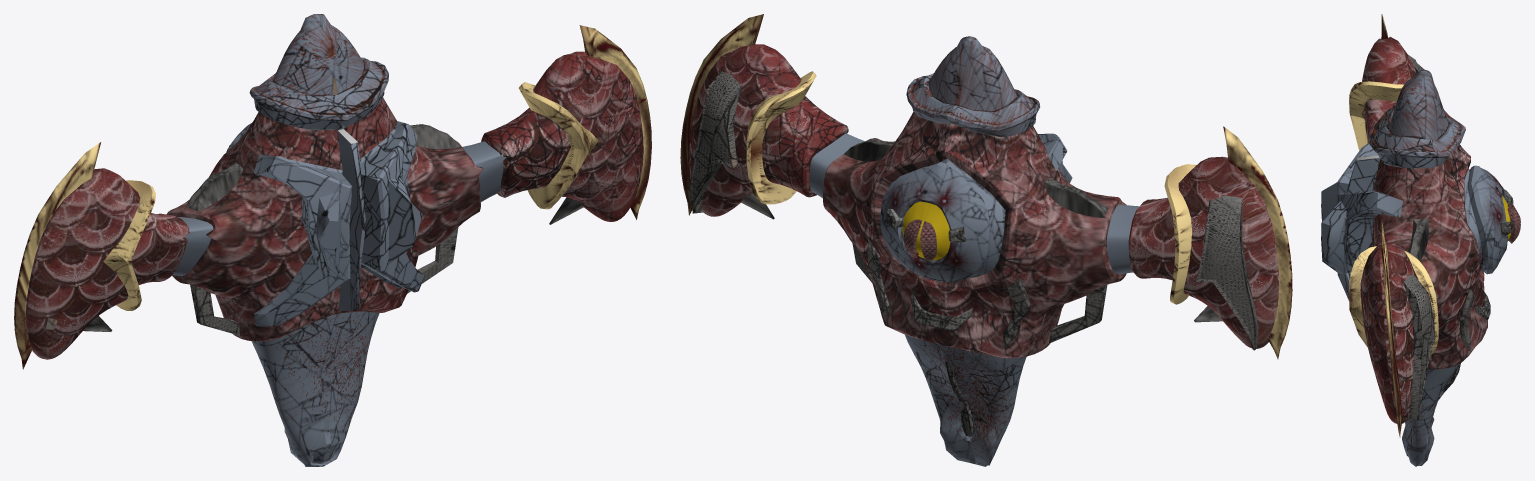
File: JetpackPart.fbx
The picture shows the model from 3 angles, left to right: view 1: azimuth 30°, elevation 25°; view 2: azimuth 150°, elevation 25°; view 3: azimuth 270°, elevation 25°; orthographic projection. The views are drawn at different scales.
Visible parts, largest first — view 1: pSphere5; view 2: pSphere5; view 3: pSphere5.
Part boxes in pixels (<box>): pSphere5: <box>14,14,651,466</box>; pSphere5: <box>680,14,1292,466</box>; pSphere5: <box>1321,14,1520,466</box>.
Bounding box in the file's own units: 74.81 × 50.14 × 23.25.
